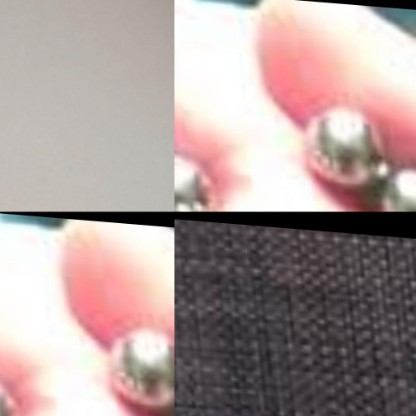ironball: (296, 104, 388, 188), (106, 327, 175, 415), (174, 147, 221, 211), (365, 163, 416, 211)
